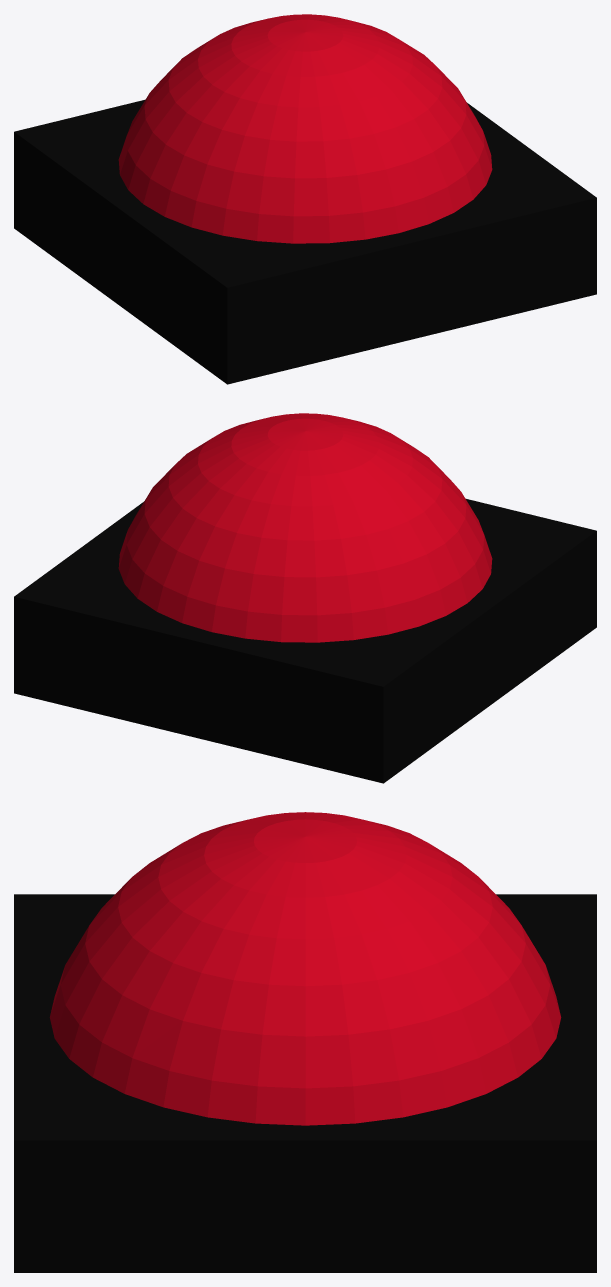
Rendered from knop.dae.
3 views of the same model, one above another, from view 1: azimuth 30°, elevation 25°; view 2: azimuth 150°, elevation 25°; view 3: azimuth 270°, elevation 25° (orthographic). The views are drawn at different scales.
Visible parts, largest first — view 1: Cube, Sphere; view 2: Cube, Sphere; view 3: Sphere, Cube.
Part boxes in pixels (box(x1,y1,x2,y2)): Cube: box(14, 100, 596, 384); Sphere: box(118, 14, 492, 243); Cube: box(14, 499, 596, 783); Sphere: box(118, 413, 492, 642); Sphere: box(49, 812, 561, 1125); Cube: box(14, 894, 596, 1272).
Bounding box in the file's own units: 2.2 × 2.2 × 1.3.
